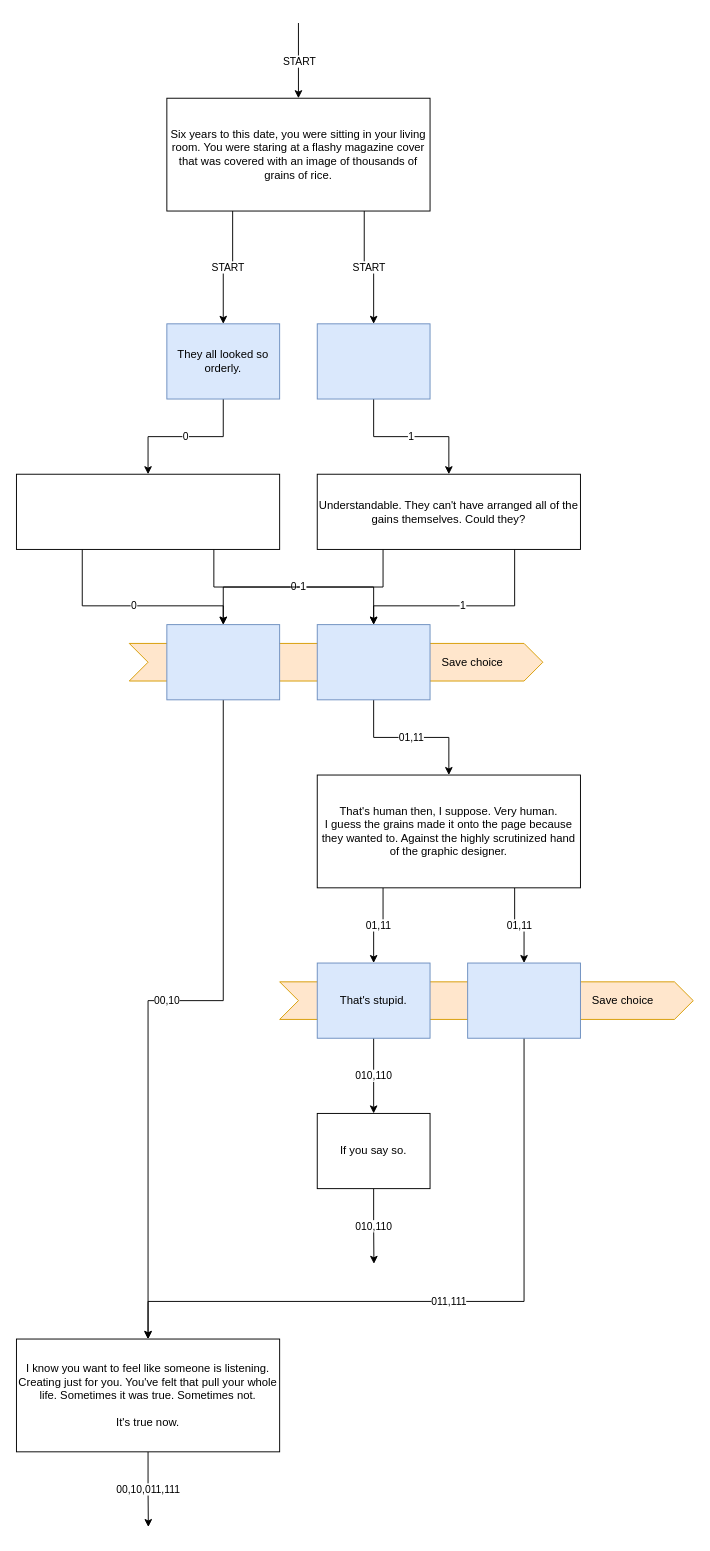
This 710x1551 diagram has some shape labels left out. The centre of each missing label's shape, as x and y in pixels:
Do you think that they were arranged like that on purpose?: (148,511)
It was a huge publication. Of course it was curated.: (223,662)
It was so busy and hard to look at.: (373,361)
Sometimes these things just... slip through the cracks.: (373,662)
That's kind of beautiful.: (523,1000)
